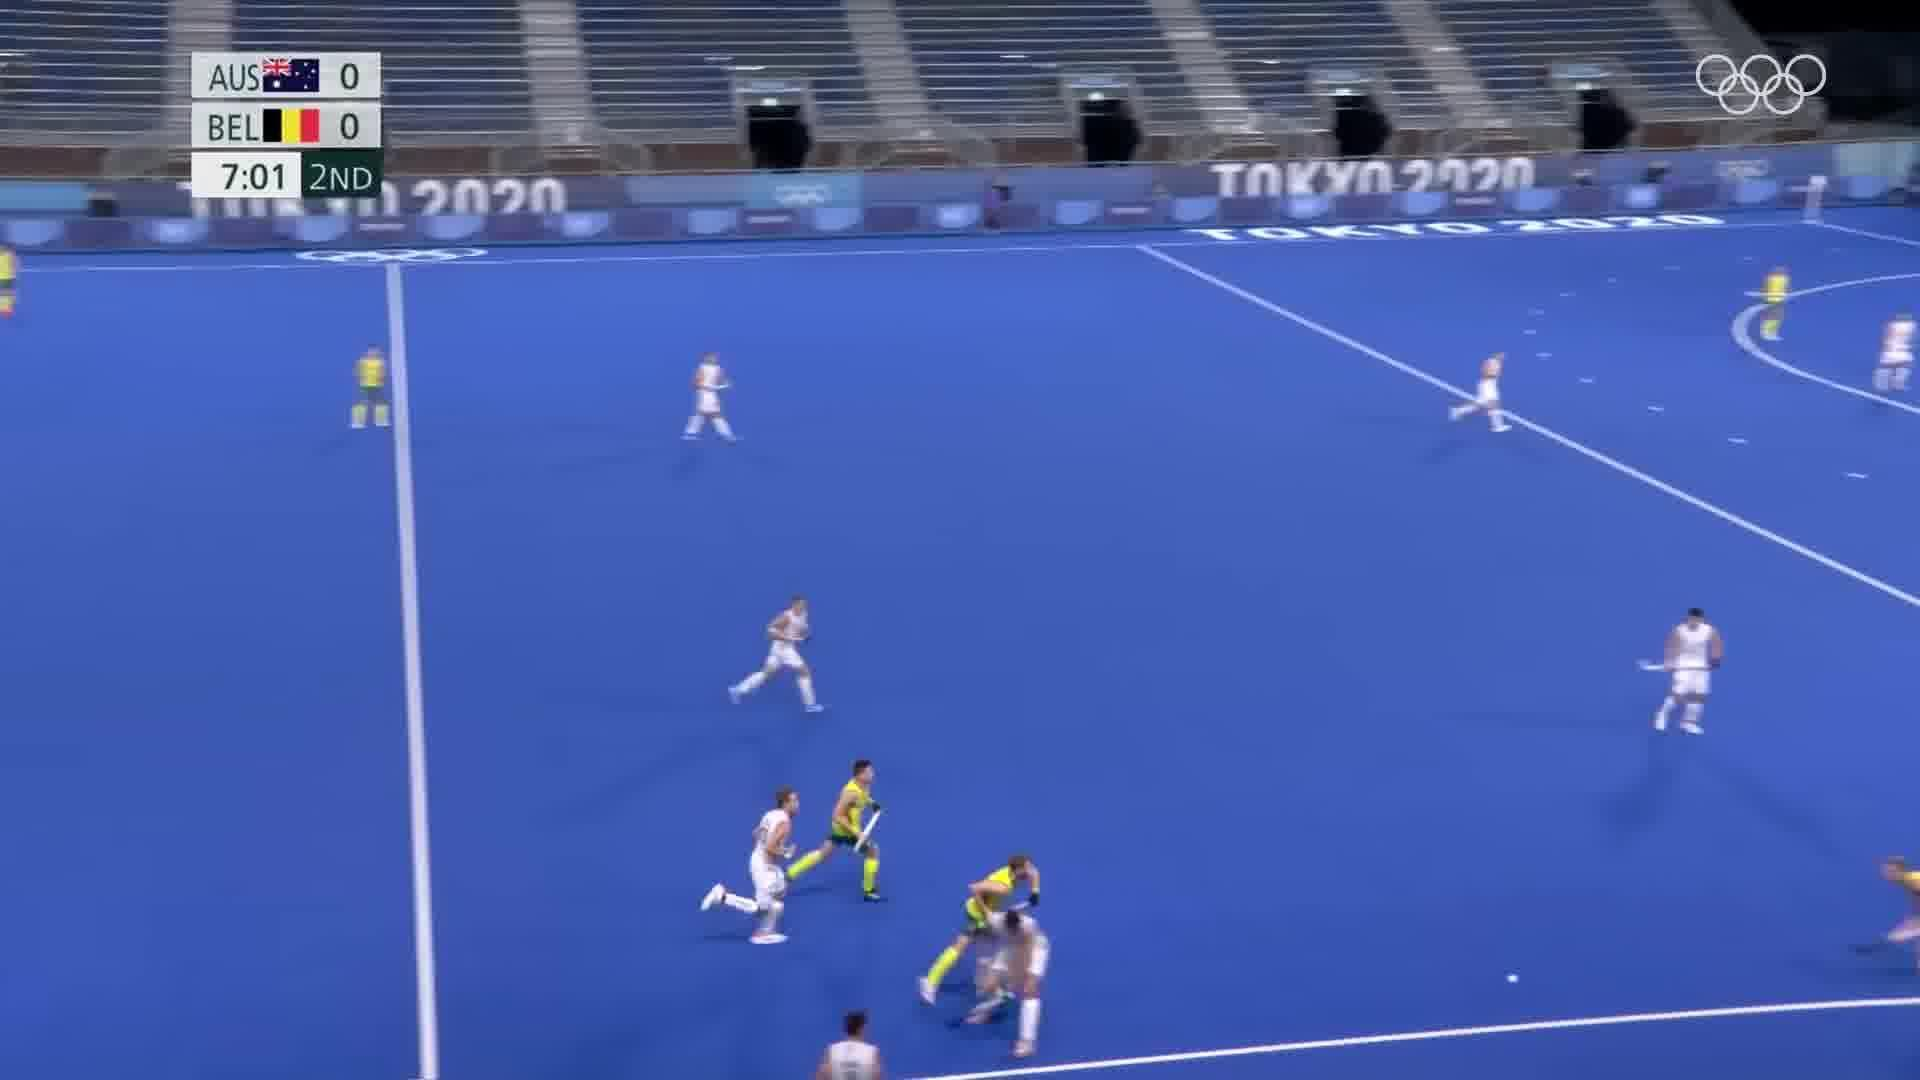ball: (1495, 967, 1532, 996)
